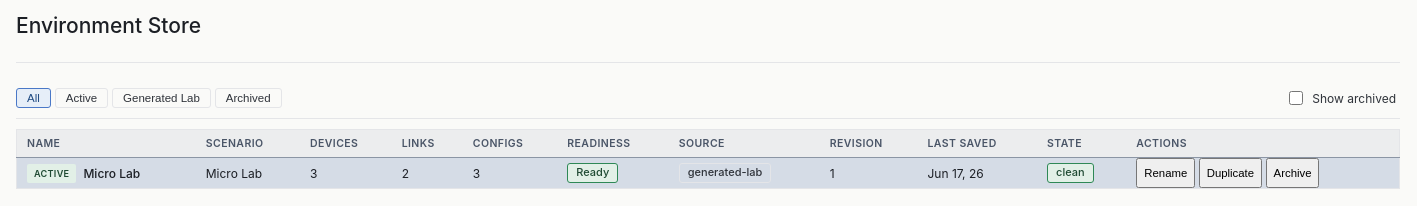
Scenario: EnvironmentStorePanel › archived envs are visible when 'Show archived' toggle is enabled
Click the button "Archive" at [1293, 173], box [1266, 158, 1320, 188]
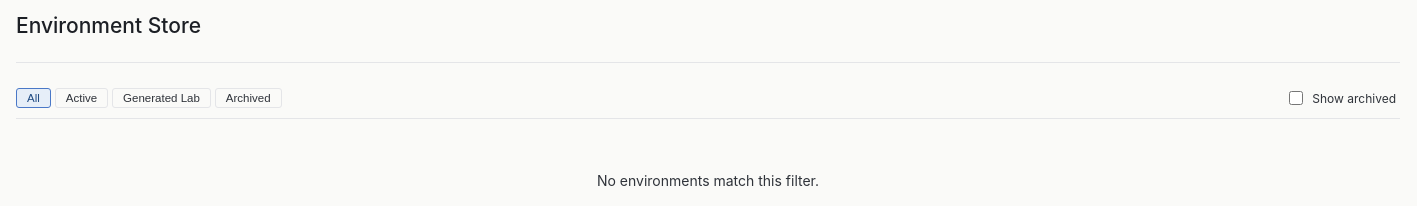
Expected: the text "Restore" is not shown
Click the checkbox with test id "archive-toggle" at [1296, 98], box [1289, 91, 1303, 105]
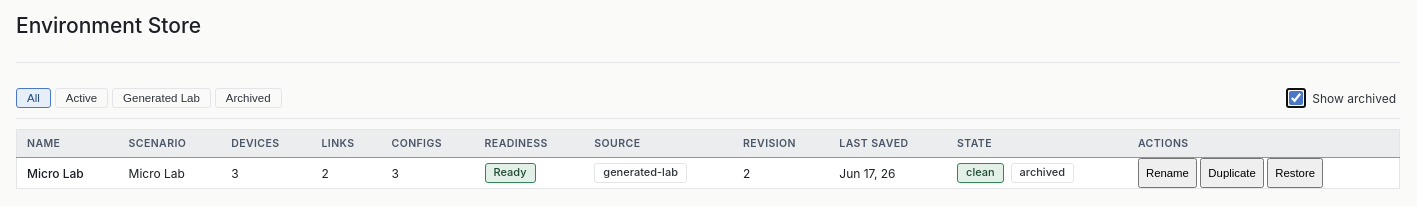
Now the text "archived" is shown, box [1011, 164, 1074, 183]
Now the text "Restore" is shown, box [1275, 167, 1315, 179]
